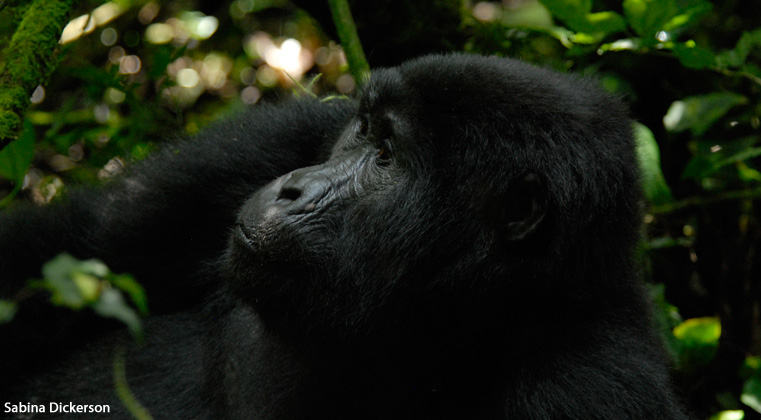Goriila: (21, 46, 670, 420)
